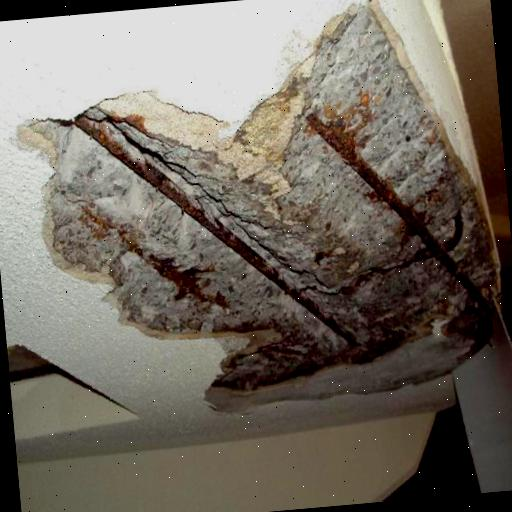spalling: (14, 0, 499, 417)
